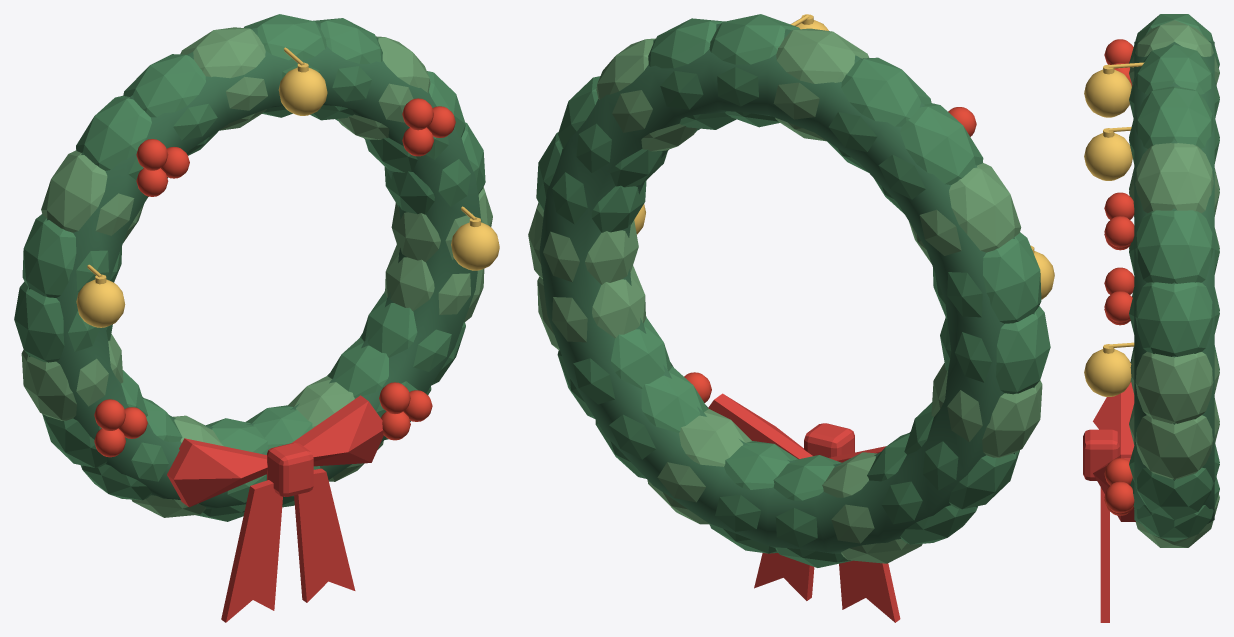
Rendered from christmas_wreath.glb.
The picture shows the model from 3 angles, left to right: view 1: azimuth 30°, elevation 25°; view 2: azimuth 150°, elevation 25°; view 3: azimuth 270°, elevation 25°; orthographic projection. The views are drawn at different scales.
Parts seen in each view (by area): view 1: Wreath_Continuous_Evergreen_Ring, Wreath_Red_Ribbon_Tail_-1, Wreath_Red_Ribbon_Tail_1, Wreath_Foliage_Cluster_09, Wreath_Foliage_Cluster_07, Wreath_Foliage_Cluster_06, Wreath_Red_Bow_Loop_-1, Wreath_Foliage_Cluster_10, Wreath_Foliage_Cluster_12, Wreath_Red_Bow_Loop_1, Wreath_Foliage_Cluster_11, Wreath_Foliage_Cluster_08 (+31 smaller); view 2: Wreath_Continuous_Evergreen_Ring, Wreath_Foliage_Cluster_09, Wreath_Foliage_Cluster_08, Wreath_Foliage_Cluster_10, Wreath_Foliage_Cluster_07, Wreath_Foliage_Cluster_11, Wreath_Foliage_Cluster_06, Wreath_Foliage_Cluster_12, Wreath_Foliage_Cluster_05, Wreath_Foliage_Cluster_19, Wreath_Foliage_Cluster_20, Wreath_Foliage_Cluster_18 (+15 smaller); view 3: Wreath_Foliage_Cluster_02, Wreath_Foliage_Cluster_01, Wreath_Continuous_Evergreen_Ring, Wreath_Foliage_Cluster_03, Wreath_Foliage_Cluster_00, Wreath_Foliage_Cluster_04, Wreath_Foliage_Cluster_21, Wreath_Foliage_Cluster_05, Wreath_Foliage_Cluster_20, Wreath_Foliage_Cluster_06, Wreath_Foliage_Cluster_19, Wreath_Gold_Bauble_2 (+15 smaller).
Part boxes in pixels (left/top/right/bottom): Wreath_Continuous_Evergreen_Ring: left=29, top=22, right=481, bottom=508; Wreath_Red_Ribbon_Tail_-1: left=221, top=480, right=282, bottom=622; Wreath_Red_Ribbon_Tail_1: left=294, top=468, right=355, bottom=602; Wreath_Foliage_Cluster_09: left=41, top=150, right=143, bottom=242; Wreath_Foliage_Cluster_07: left=123, top=54, right=219, bottom=155; Wreath_Foliage_Cluster_06: left=180, top=27, right=267, bottom=130; Wreath_Red_Bow_Loop_-1: left=167, top=438, right=267, bottom=507; Wreath_Foliage_Cluster_10: left=22, top=214, right=121, bottom=297; Wreath_Foliage_Cluster_12: left=21, top=334, right=123, bottom=420; Wreath_Red_Bow_Loop_1: left=292, top=395, right=383, bottom=466; Wreath_Foliage_Cluster_11: left=14, top=281, right=112, bottom=362; Wreath_Foliage_Cluster_08: left=76, top=95, right=167, bottom=196; Wreath_Continuous_Evergreen_Ring: left=539, top=23, right=1034, bottom=553; Wreath_Foliage_Cluster_09: left=909, top=163, right=1021, bottom=263; Wreath_Foliage_Cluster_08: left=874, top=103, right=983, bottom=213; Wreath_Foliage_Cluster_10: left=933, top=232, right=1041, bottom=323; Wreath_Foliage_Cluster_07: left=827, top=57, right=931, bottom=172; Wreath_Foliage_Cluster_11: left=940, top=306, right=1050, bottom=394; Wreath_Foliage_Cluster_06: left=773, top=28, right=869, bottom=141; Wreath_Foliage_Cluster_12: left=931, top=363, right=1042, bottom=457; Wreath_Foliage_Cluster_05: left=709, top=14, right=799, bottom=127; Wreath_Foliage_Cluster_19: left=595, top=366, right=708, bottom=478; Wreath_Foliage_Cluster_20: left=557, top=317, right=671, bottom=419; Wreath_Foliage_Cluster_18: left=647, top=408, right=751, bottom=524; Wreath_Foliage_Cluster_02: left=1129, top=210, right=1219, bottom=283; Wreath_Foliage_Cluster_01: left=1129, top=282, right=1219, bottom=356; Wreath_Continuous_Evergreen_Ring: left=1134, top=40, right=1214, bottom=523; Wreath_Foliage_Cluster_03: left=1129, top=143, right=1219, bottom=216; Wreath_Foliage_Cluster_00: left=1130, top=351, right=1219, bottom=423; Wreath_Foliage_Cluster_04: left=1129, top=86, right=1219, bottom=163; Wreath_Foliage_Cluster_21: left=1129, top=404, right=1219, bottom=479; Wreath_Foliage_Cluster_05: left=1129, top=44, right=1219, bottom=117; Wreath_Foliage_Cluster_20: left=1129, top=446, right=1219, bottom=519; Wreath_Foliage_Cluster_06: left=1129, top=20, right=1219, bottom=84; Wreath_Foliage_Cluster_19: left=1130, top=477, right=1219, bottom=541; Wreath_Gold_Bauble_2: left=1084, top=133, right=1132, bottom=180.
Bounding box in the file's own units: 0.7389 × 0.8412 × 0.1895.
